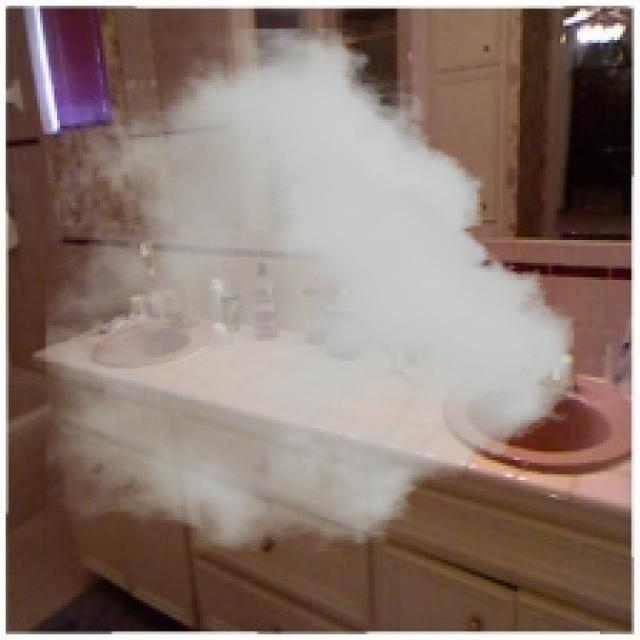Smoke: (46, 29, 574, 552)
